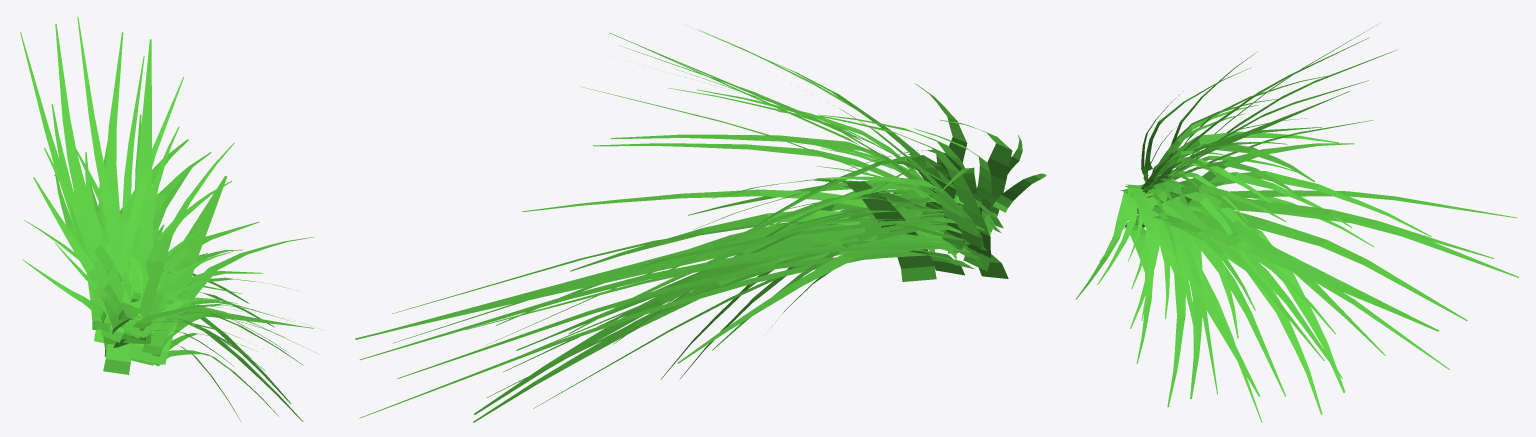
The model's file is grass4.fbx.
3 renders of one model, left to right at view 1: azimuth 30°, elevation 25°; view 2: azimuth 150°, elevation 25°; view 3: azimuth 270°, elevation 25°, orthographic. The views are drawn at different scales.
Parts seen in each view (by area): view 1: Plane.001; view 2: Plane.001; view 3: Plane.001.
Boxes of the visible parts, left/top/right/bottom form: Plane.001: left=20, top=17, right=314, bottom=422; Plane.001: left=355, top=26, right=1046, bottom=422; Plane.001: left=1075, top=22, right=1518, bottom=422.
Size of the model in its own units: 410 by 412 by 512.
